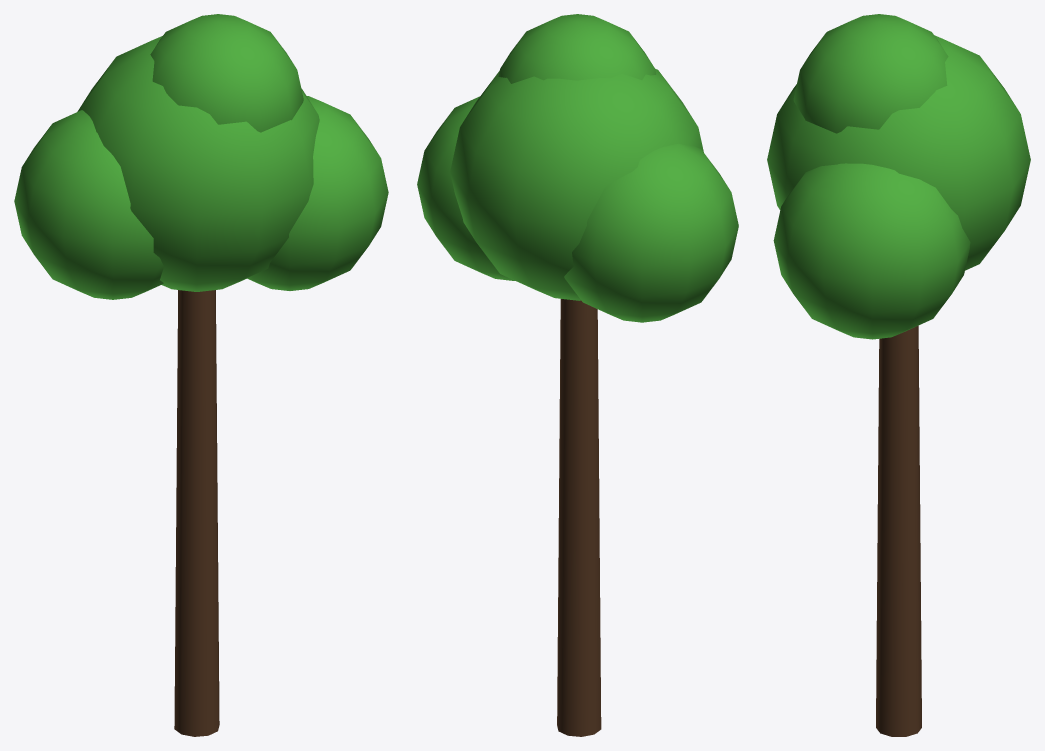
File: forest_tree_tall.glb
3 views of the same model, side by side, from view 1: azimuth 30°, elevation 25°; view 2: azimuth 150°, elevation 25°; view 3: azimuth 270°, elevation 25° (orthographic). The views are drawn at different scales.
Parts seen in each view (by area): view 1: forest_tree_tall; view 2: forest_tree_tall; view 3: forest_tree_tall.
Part boxes in pixels (x1,y1,x2,y2): forest_tree_tall: [14, 14, 388, 736]; forest_tree_tall: [417, 14, 738, 736]; forest_tree_tall: [767, 14, 1030, 736].
Bounding box in the file's own units: 5.7 × 11.9 × 4.
